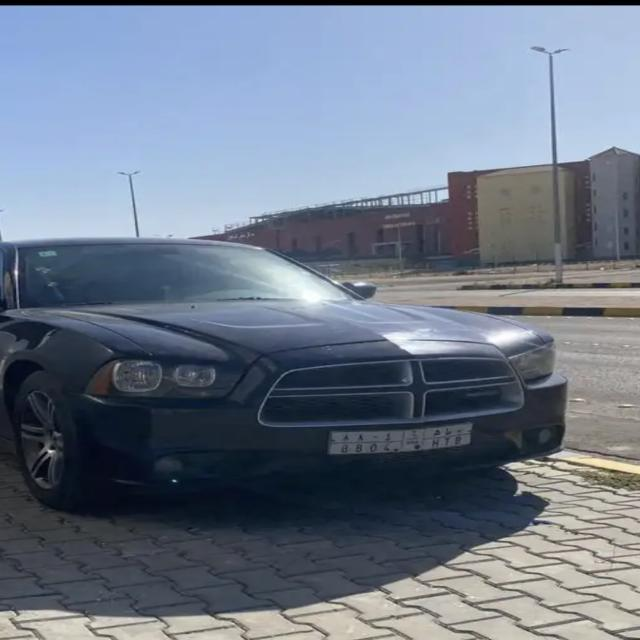license_plate: (327, 428, 487, 460)
